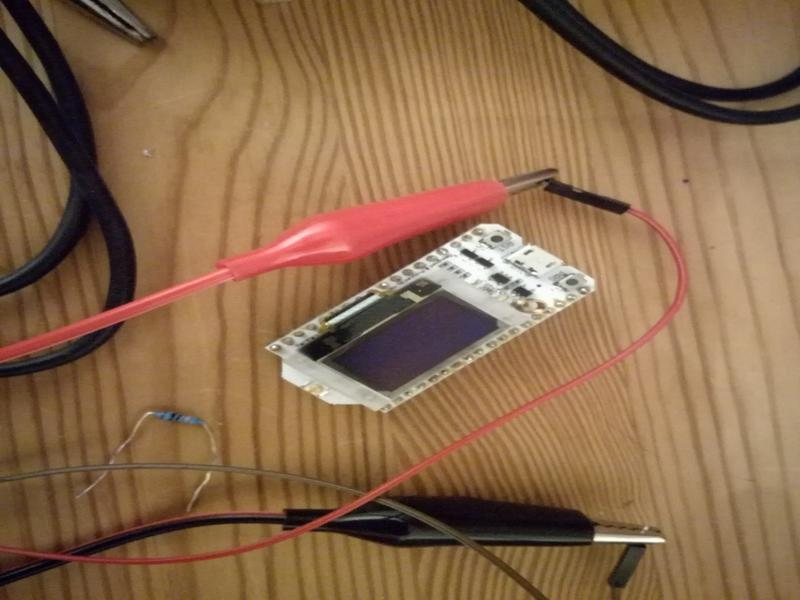Heltec_ESP32_Lora: (256, 209, 612, 419)
